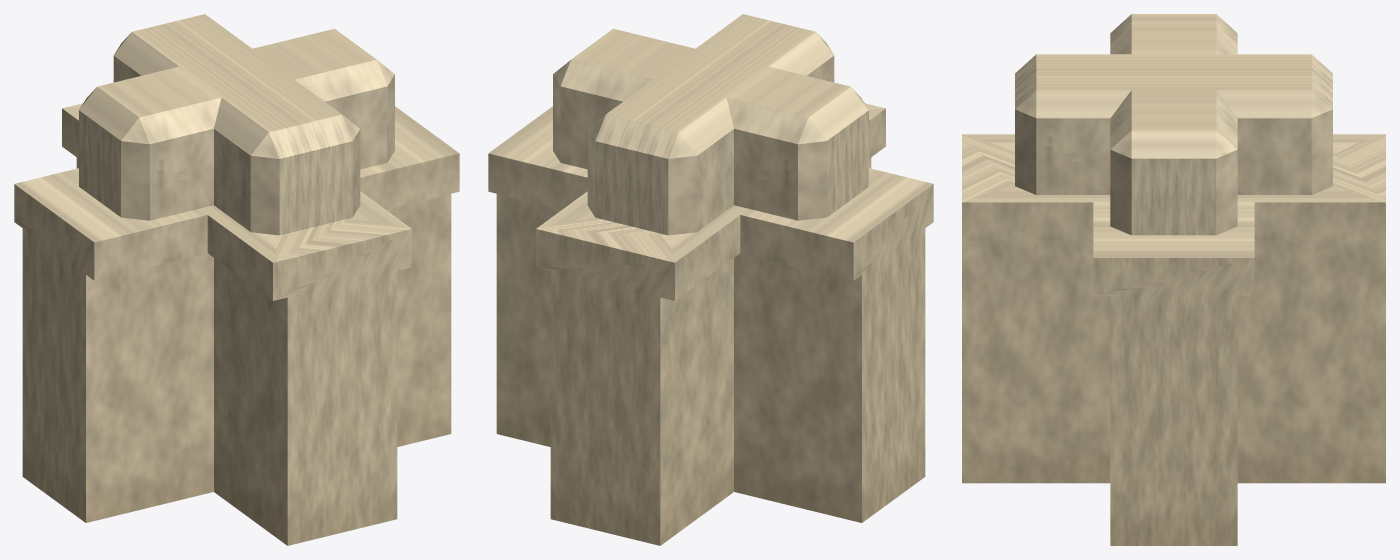
Rendered from wall_cross_base.glb.
3 views of the same model, side by side, from view 1: azimuth 30°, elevation 25°; view 2: azimuth 150°, elevation 25°; view 3: azimuth 270°, elevation 25° (orthographic).
Visible parts, largest first — view 1: wall; view 2: wall; view 3: wall.
Boxes of the visible parts, left/top/right/bottom form: wall: left=14, top=14, right=459, bottom=545; wall: left=488, top=14, right=933, bottom=545; wall: left=962, top=14, right=1385, bottom=545.
Size of the model in its own units: 1 by 1 by 1.
Materials: 1 (1 with a texture image).
